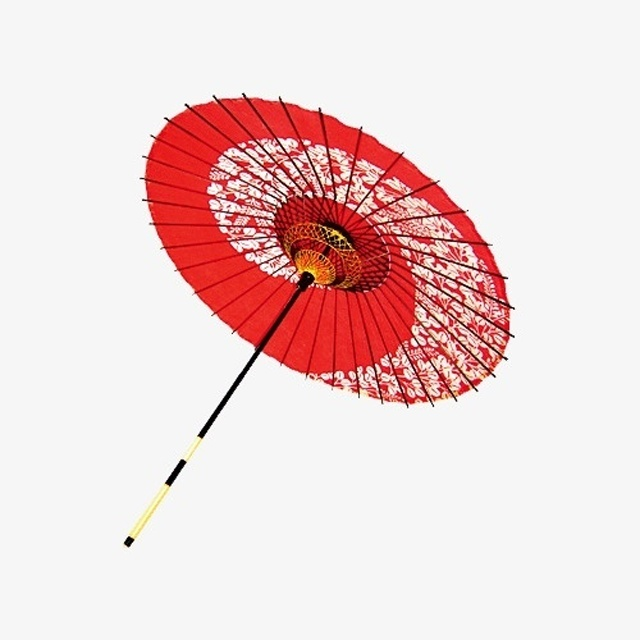umbrella: (116, 91, 515, 551)
